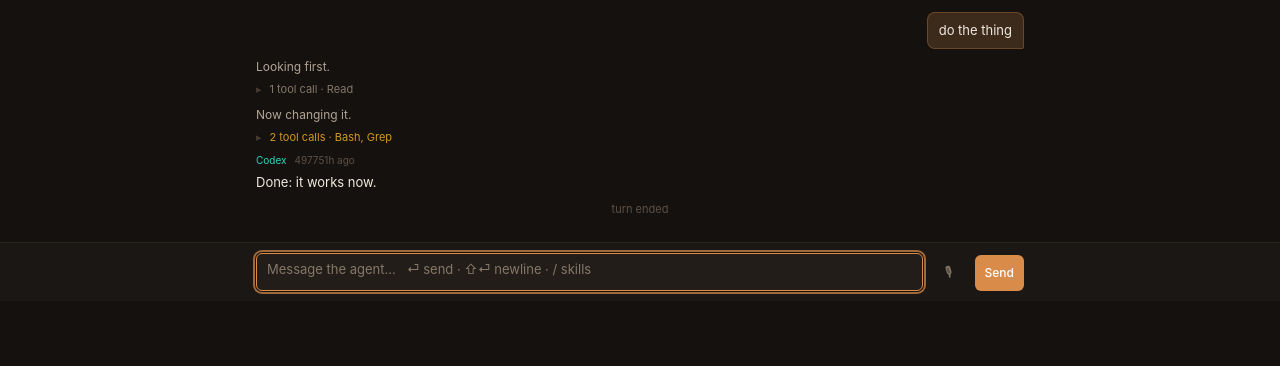
compact and ubercompact views › compact: one line per step with the tools behind it, the answer in the open, the failed step tinted
Expected: the text "do the thing" is shown, x1=939 y1=20 x2=1012 y2=41
Expected: the text "Done: it works now." is shown, x1=256 y1=174 x2=376 y2=190
Click the button with test id "step-fold" showing "▸ 1 tool call · Read": x=305, y=89 x1=256 y1=81 x2=353 y2=97
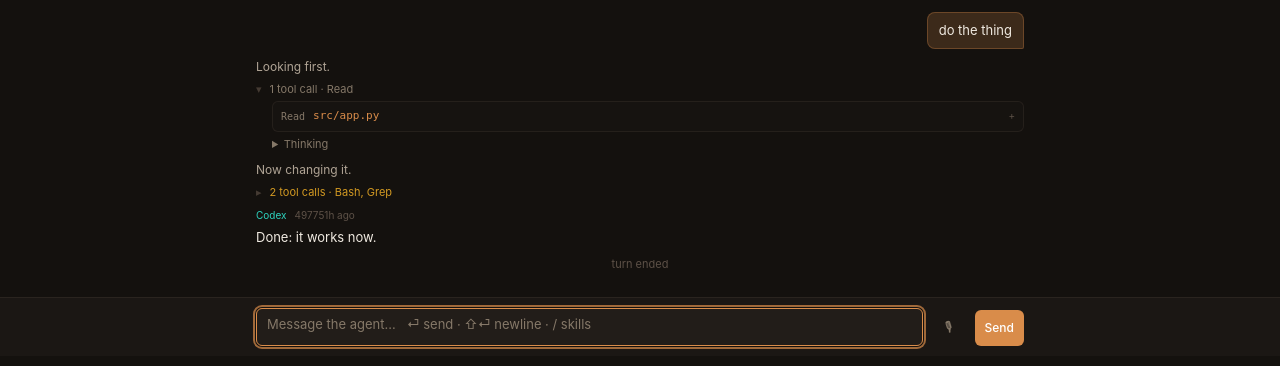
Expected: the heading "Thinking" is shown, x1=284 y1=137 x2=328 y2=151
Expected: the link "src/app.py" is shown, x1=313 y1=109 x2=379 y2=122
